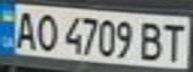0: (97, 16, 118, 57)
4: (60, 12, 84, 54)
7: (78, 14, 100, 56)
9: (112, 17, 139, 60)
A: (9, 8, 39, 51)
B: (136, 19, 166, 62)
O: (33, 9, 60, 52)
T: (160, 20, 190, 62)
